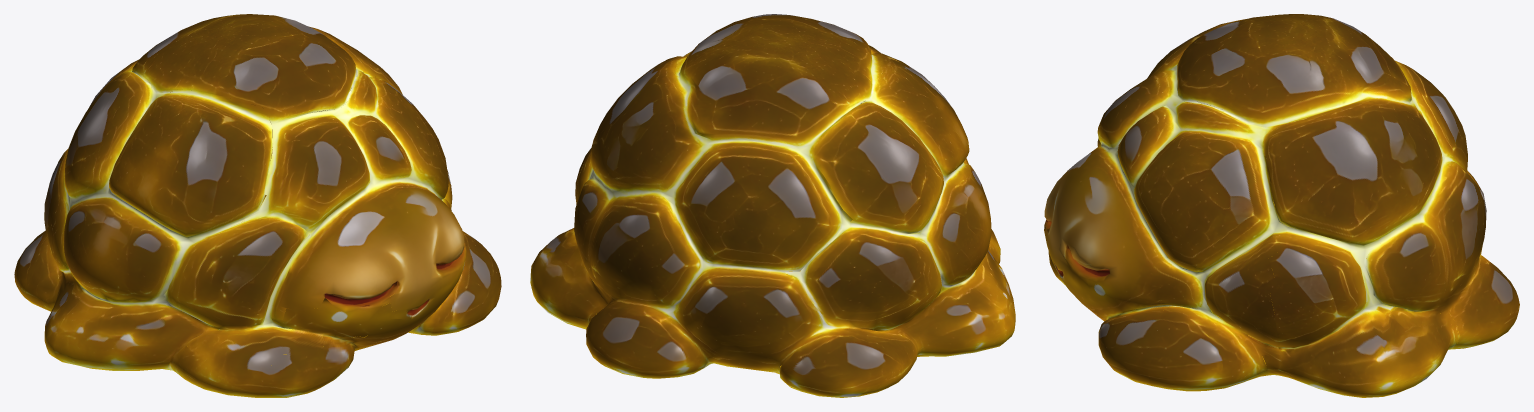
The model's file is solar.glb.
3 renders of one model, left to right at view 1: azimuth 30°, elevation 25°; view 2: azimuth 150°, elevation 25°; view 3: azimuth 270°, elevation 25°, orthographic.
Parts seen in each view (by area): view 1: model; view 2: model; view 3: model.
Boxes of the visible parts, bbox=[...] form: model: bbox=[14, 14, 501, 397]; model: bbox=[530, 14, 1015, 397]; model: bbox=[1044, 14, 1519, 397].
Bounding box in the file's own units: 1.89 × 1.18 × 1.84.
Materials: 1 (1 with a texture image).
